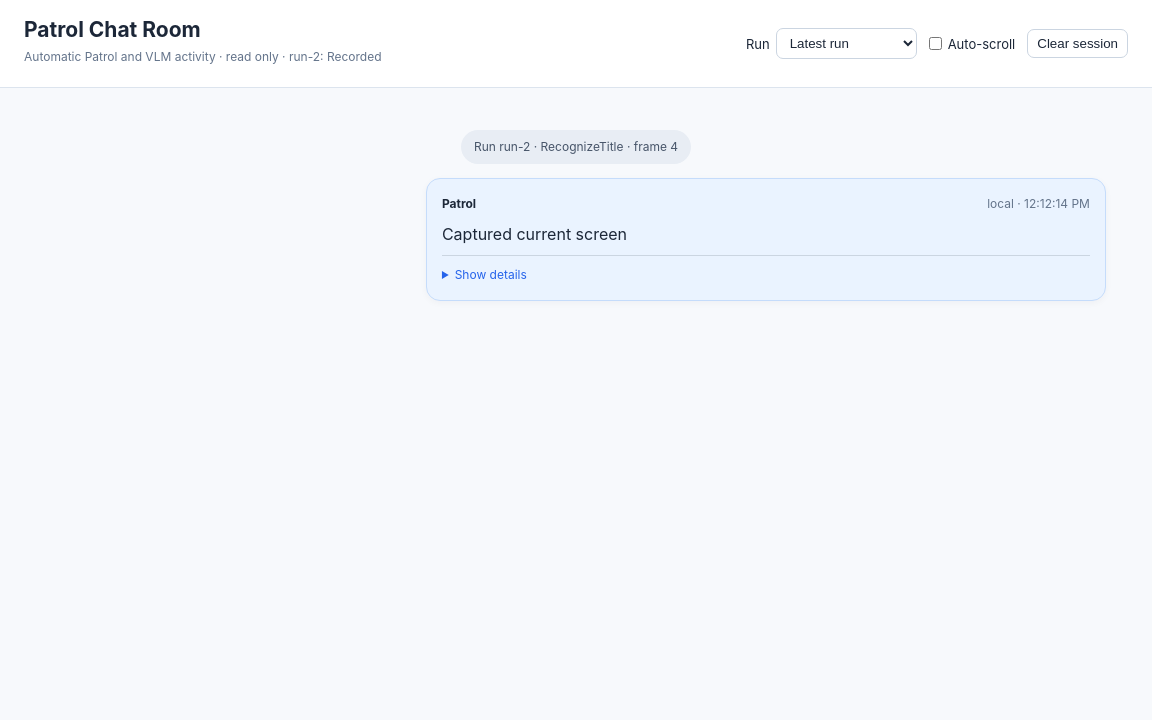
Test: Patrol Chat Room › filters by run and clears session history
Expected: the text "Captured current screen" is shown, x1=442 y1=224 x2=627 y2=244
Expected: the text "Sent state match request" is not shown
Select "All runs" in the dropdown labelled "Run". click: (846, 44)
box: x1=776 y1=28 x2=917 y2=59
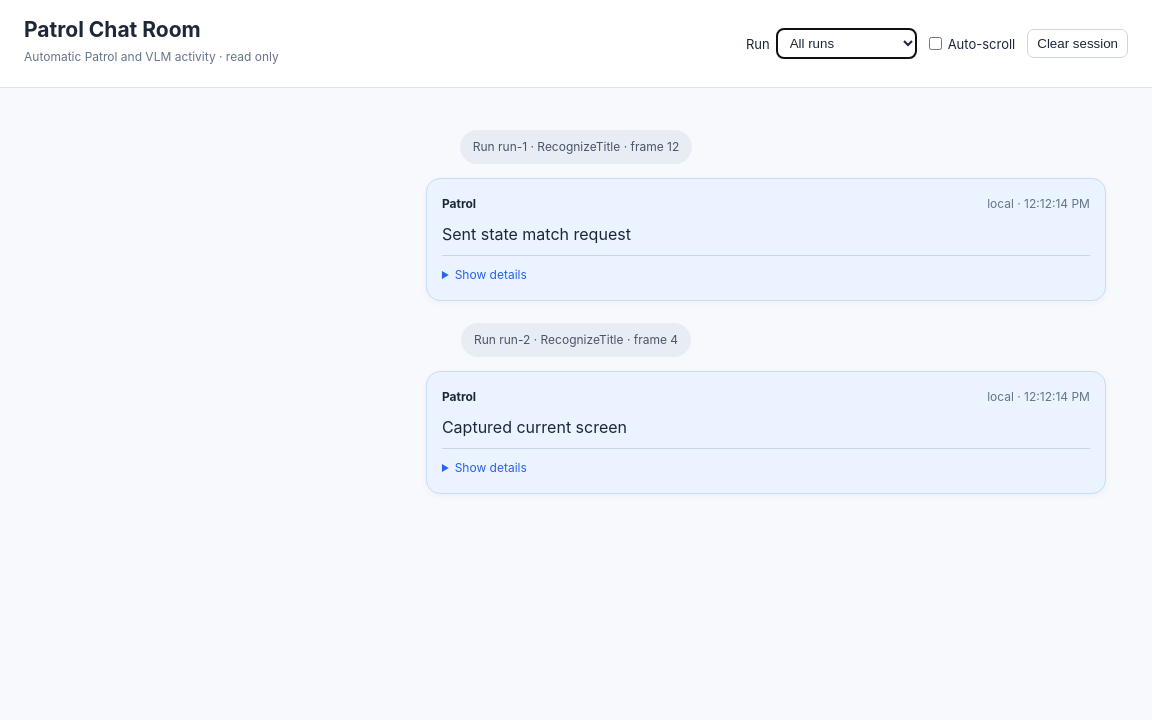
Now the text "Sent state match request" is shown, box x1=442 y1=224 x2=631 y2=244
Click the button "Clear session". click: (1078, 44)
box: x1=1027 y1=29 x2=1128 y2=58
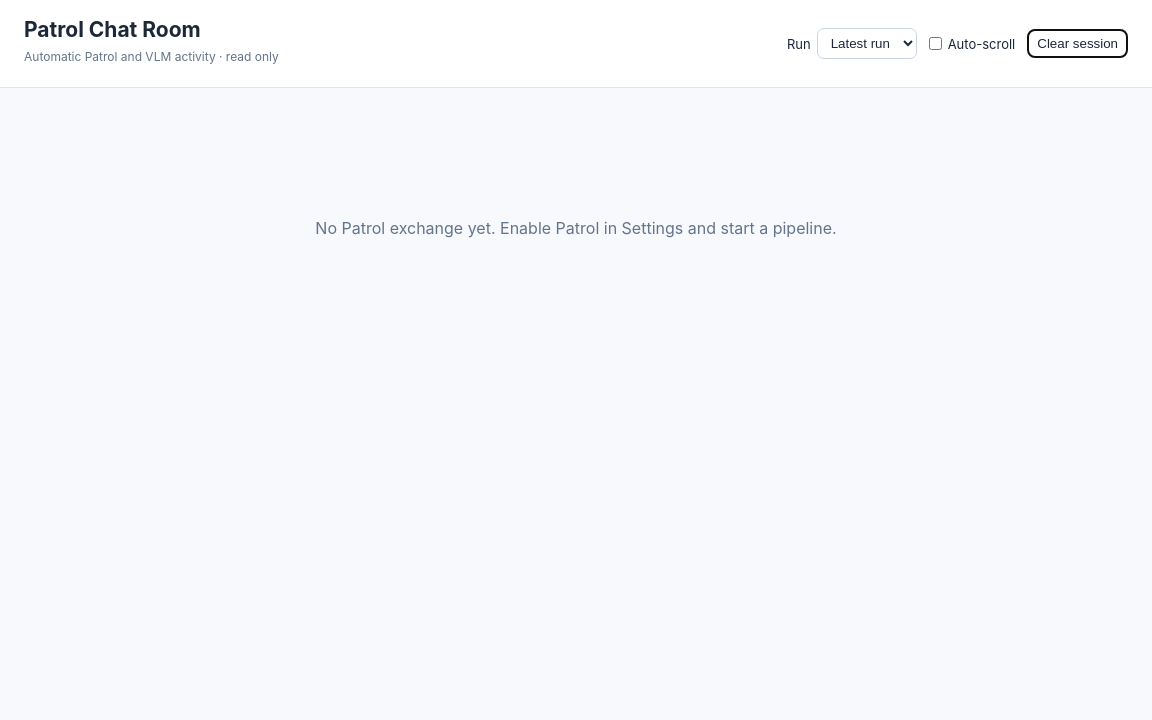
Now the text "No Patrol exchange yet" is shown, box x1=315 y1=218 x2=837 y2=238
